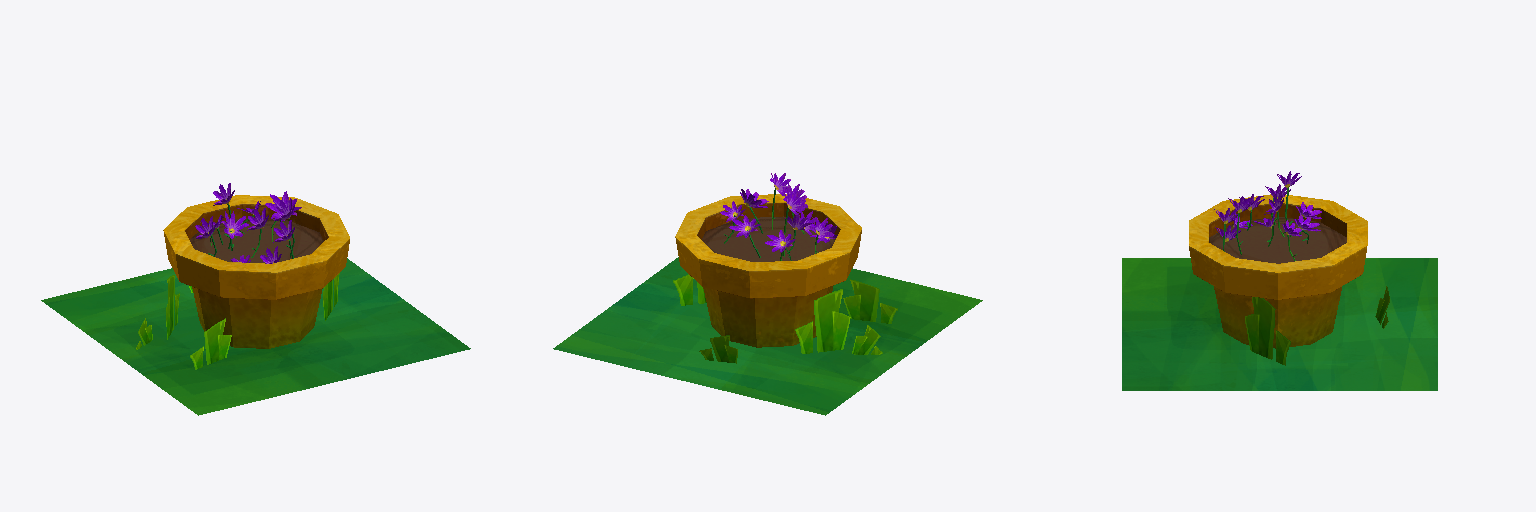
3 views of the same model, side by side, from view 1: azimuth 30°, elevation 25°; view 2: azimuth 150°, elevation 25°; view 3: azimuth 270°, elevation 25° (orthographic).
Visible parts, largest first — view 1: Stylizedplants_model.003; view 2: Stylizedplants_model.003; view 3: Stylizedplants_model.003.
Part boxes in pixels (x1,y1,x2,y2): Stylizedplants_model.003: (41,183,470,415); Stylizedplants_model.003: (553,173,982,415); Stylizedplants_model.003: (1122,171,1437,390).
Size of the model in its own units: 45.19 by 25.35 by 45.19.
2 materials, 1 textured.